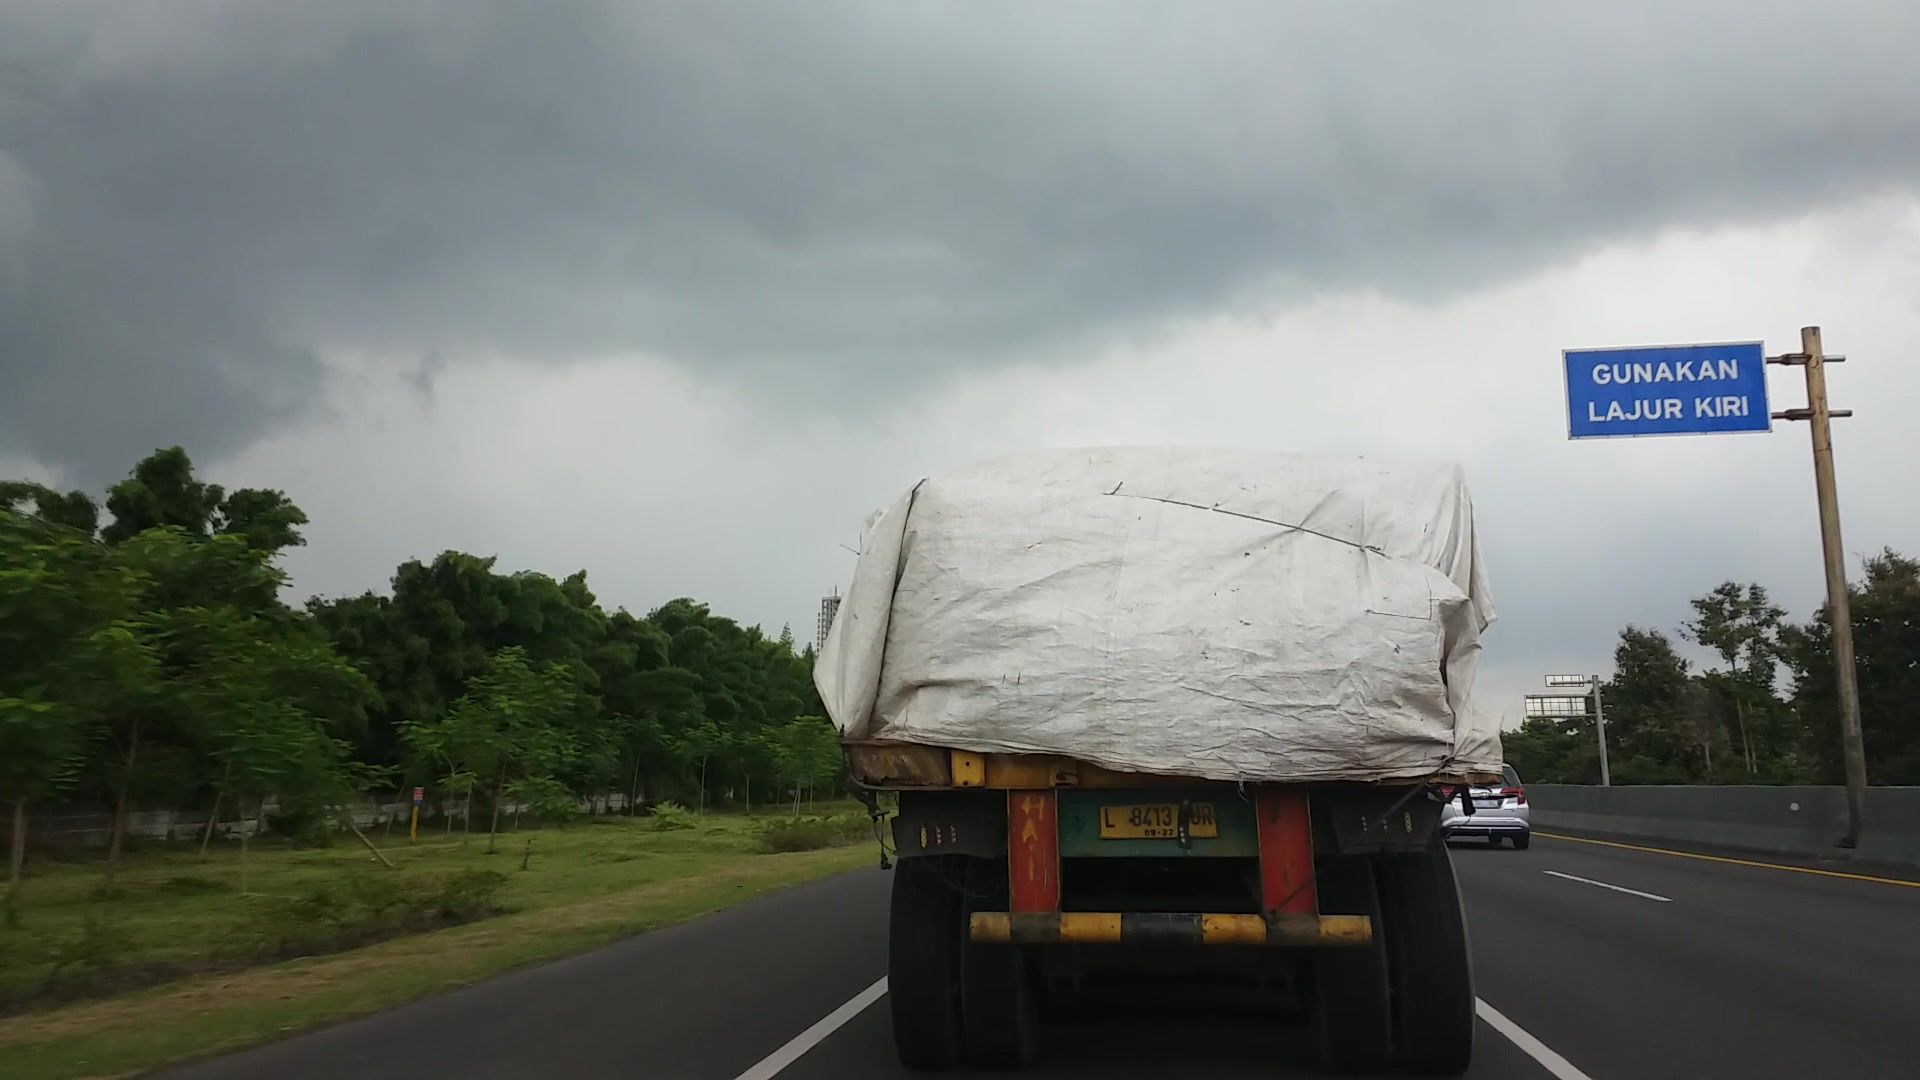plate_positive: (1098, 802, 1217, 837)
